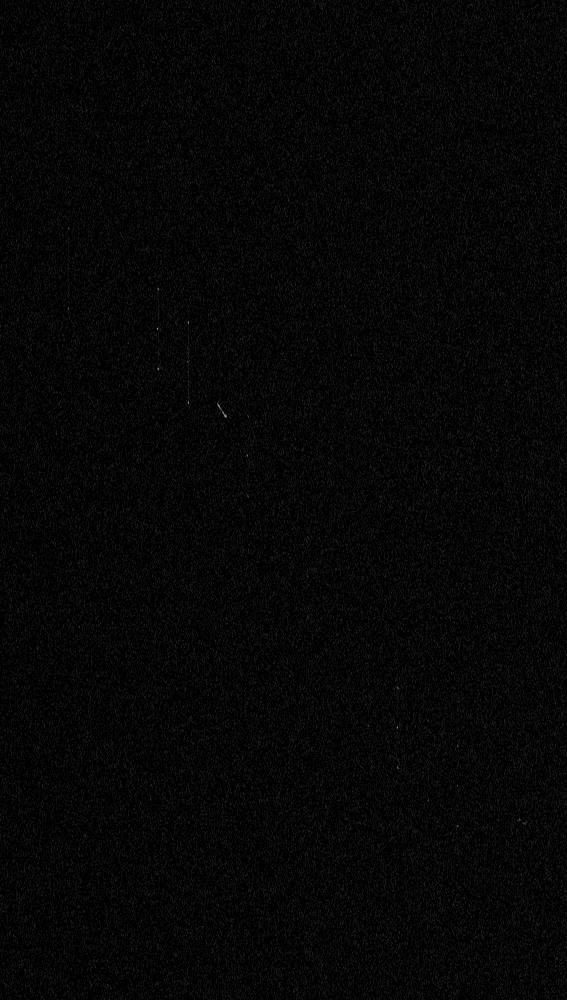signal: (0, 0, 566, 999)
